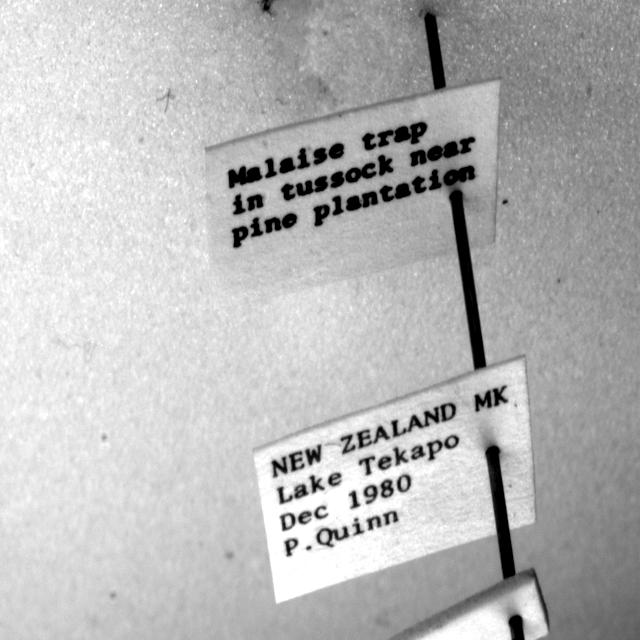typed_label: (254, 356, 535, 602), (206, 81, 500, 308)
